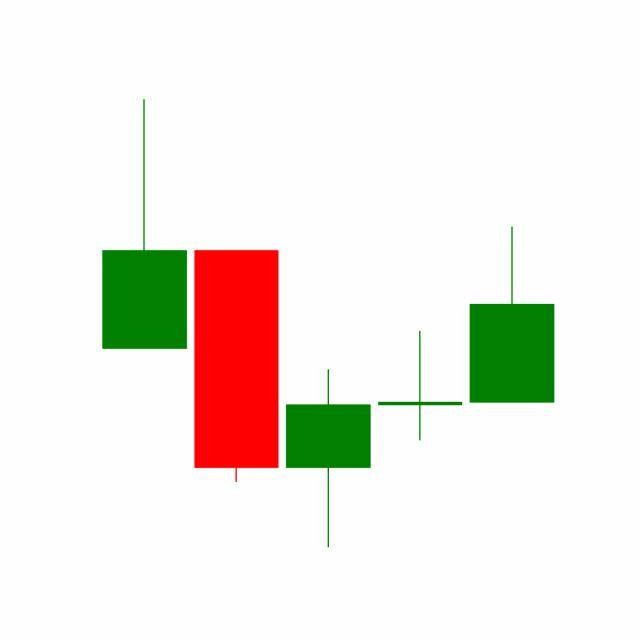Spinning Top: (374, 329, 468, 443)
